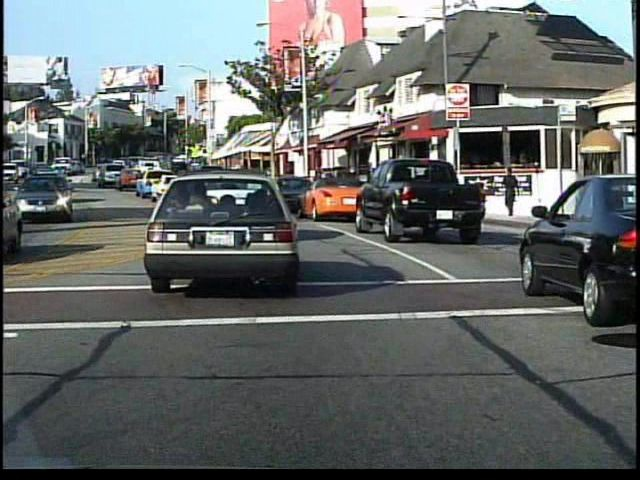person: (501, 167, 521, 222)
